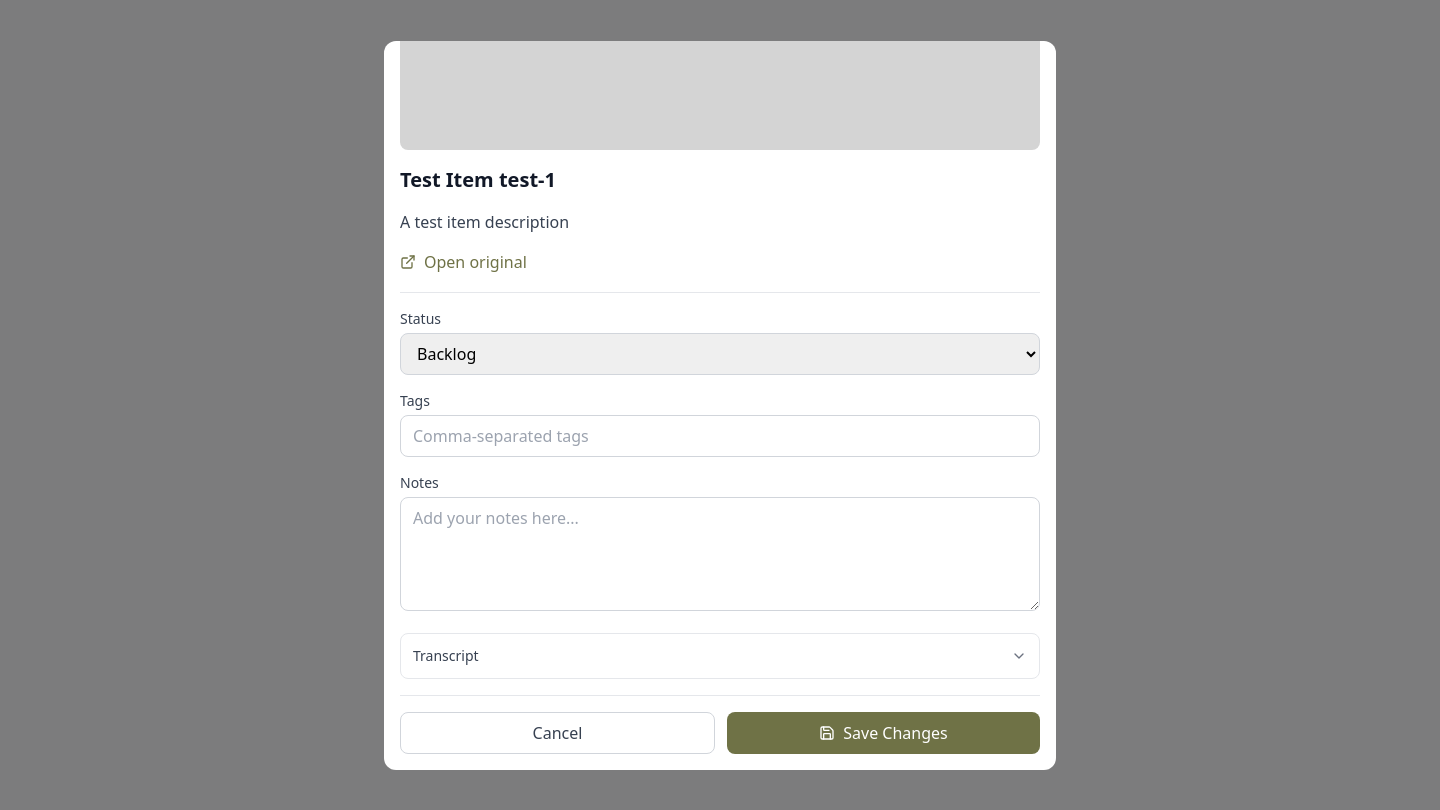
Test: InterestDetail › transcript section (YouTube) › shows transcript unavailable message when fetch fails
(page scrolled)
Click the button "Transcript": (446, 655) [401,634,1039,678]
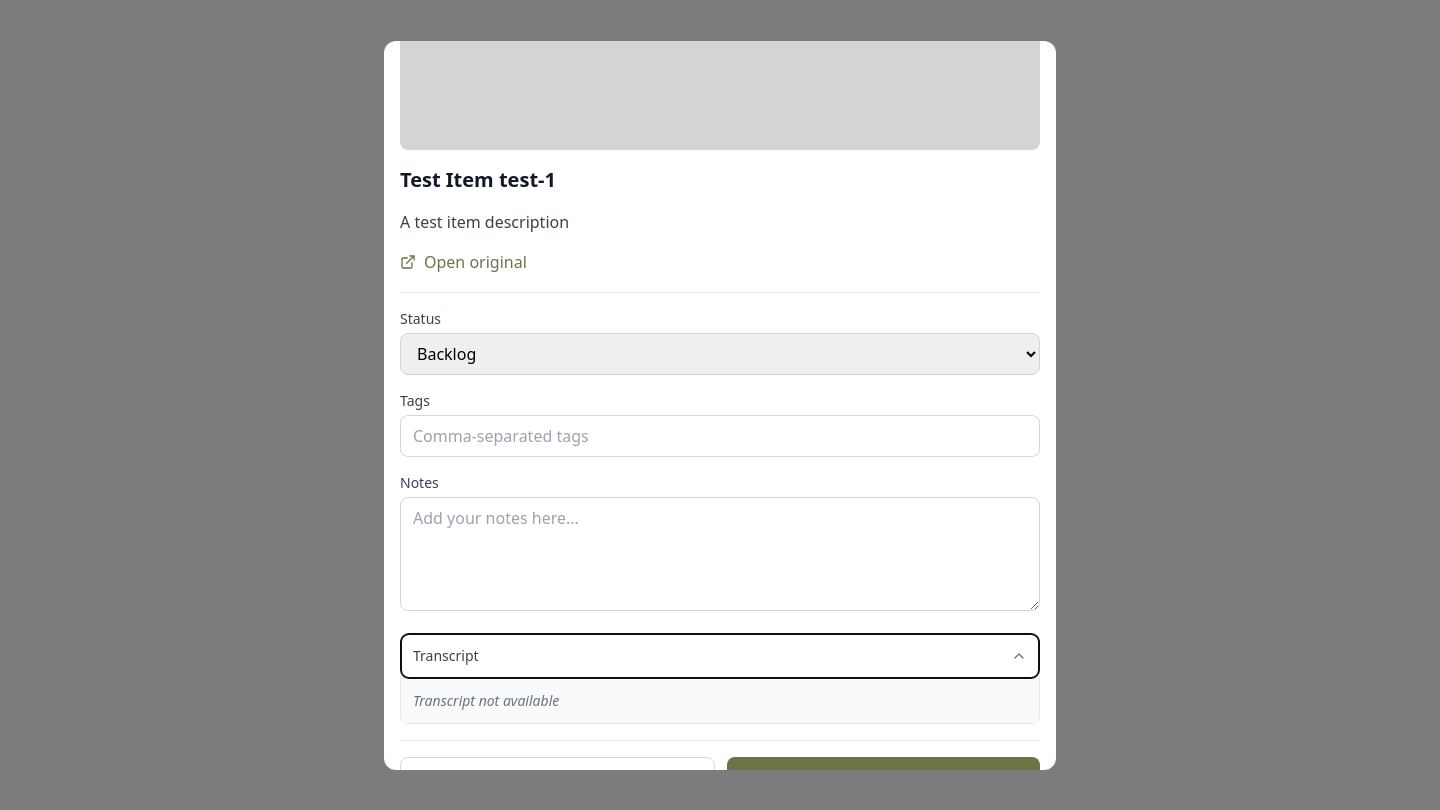
Check: the text "Transcript not available" is shown, box [413,690,559,710]
